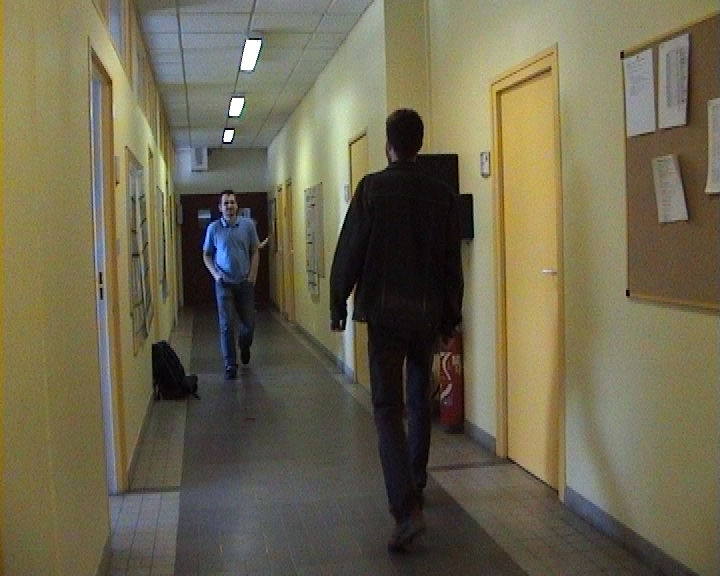leave bag unattended: (139, 149, 300, 448)
